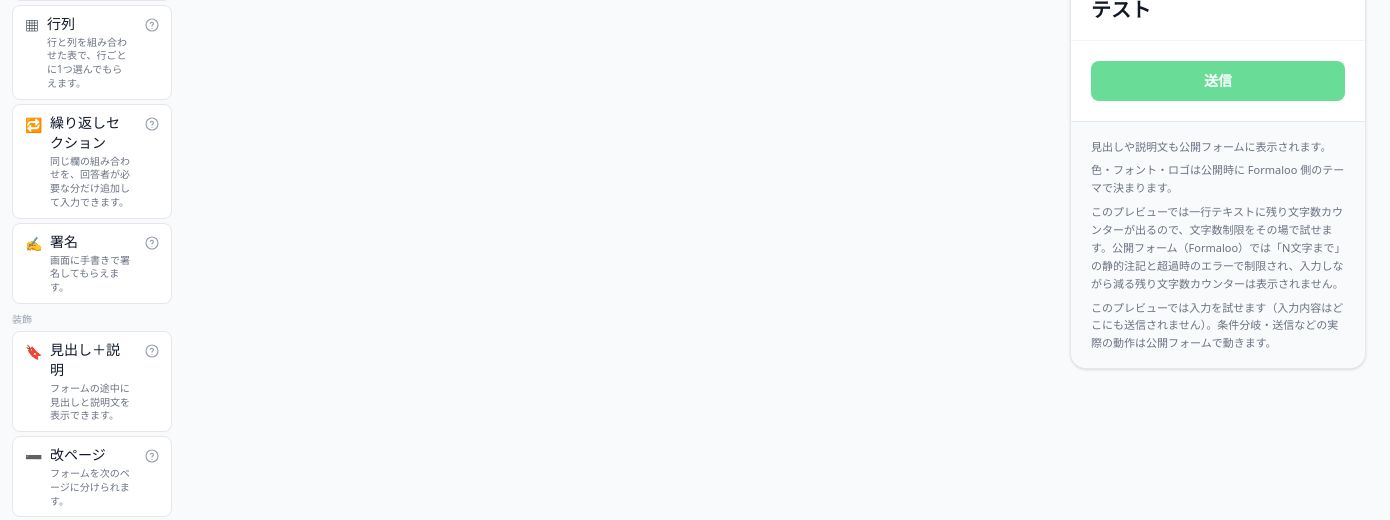
Scenario: FormBuilder — 装飾ブロック (T-B5/T-B10) › 見出し＋説明を追加し、見出しと説明だけを編集してカードへ反映できる
(page scrolled)
Click the button with aria-label "見出し＋説明を追加": (92, 381) [12,331,172,432]
(page scrolled)
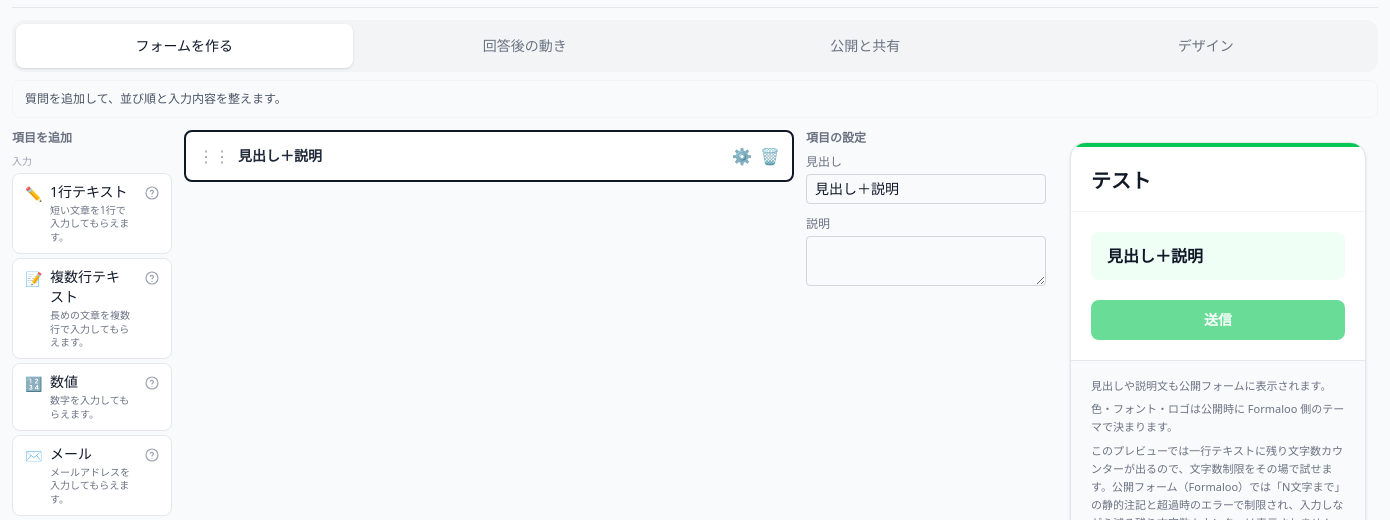
Check: the text "見出し＋説明" is shown, box [238,146,322,164]
Check: the field named "見出し" is shown
Check: the text box named "説明文" is shown, box [806,236,1046,286]
Replace the text in the field named "見出し" with "ご利用前の案内": (926, 188) [806,174,1046,204]
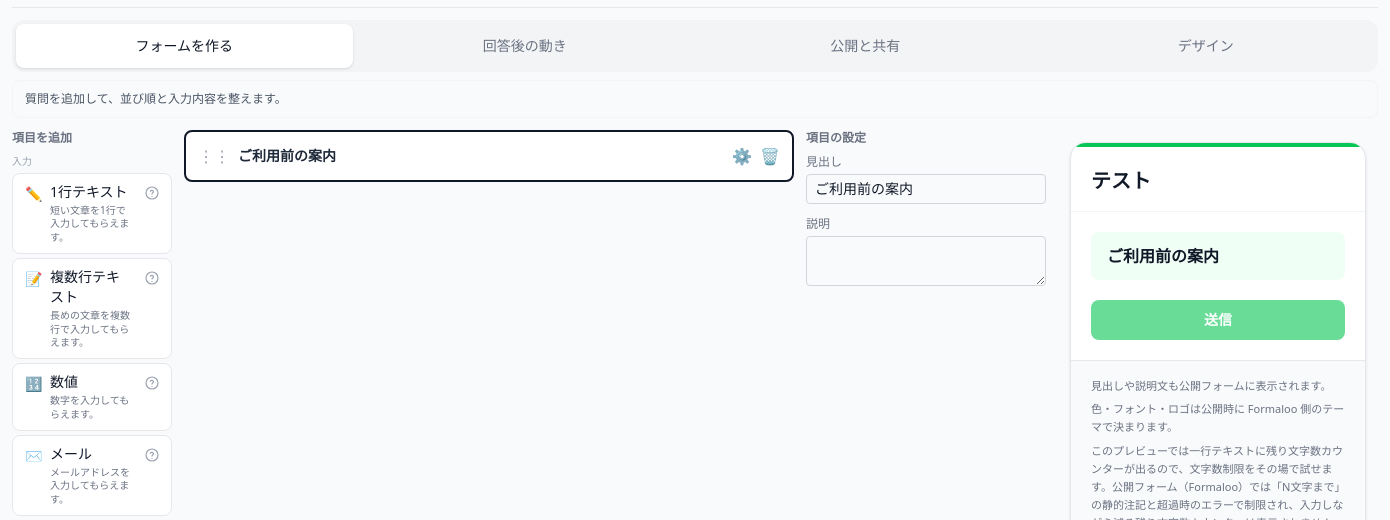
In the text box named "説明文": (926, 260) [806,236,1046,286], type "注意事項をお読みください"
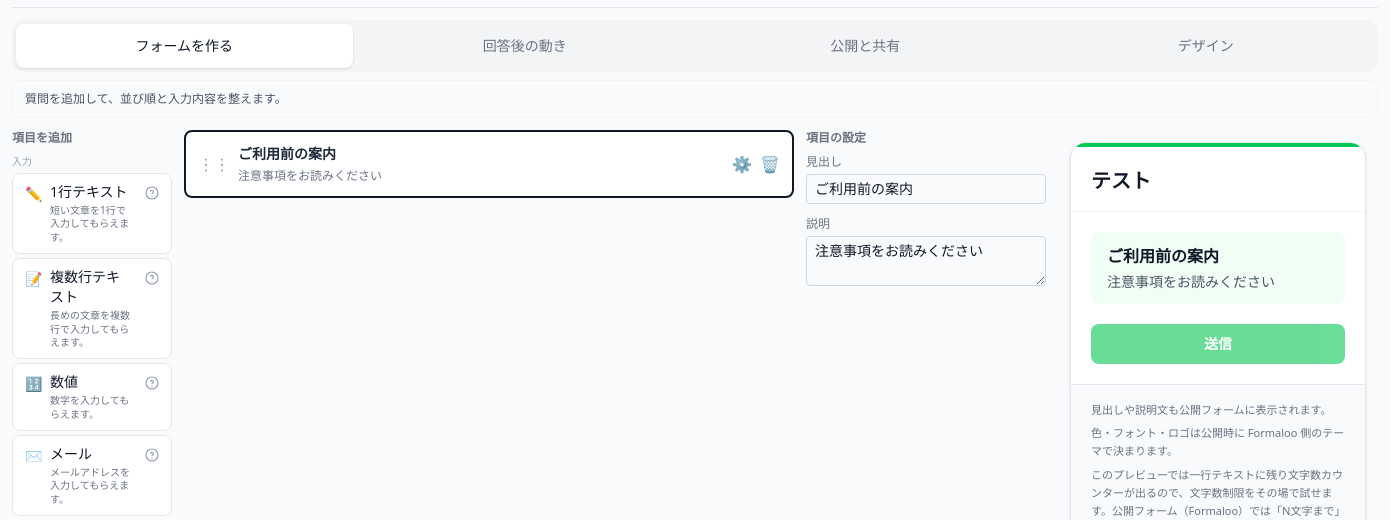
Check: the text "ご利用前の案内" is shown, box [238,144,336,162]
Check: the 1st text "注意事項をお読みください" is shown, box [238,166,382,184]
